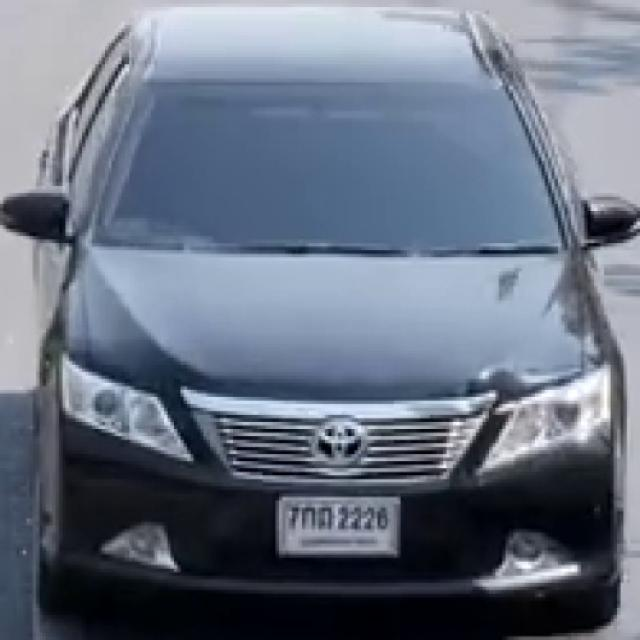plate: (282, 500, 396, 552)
